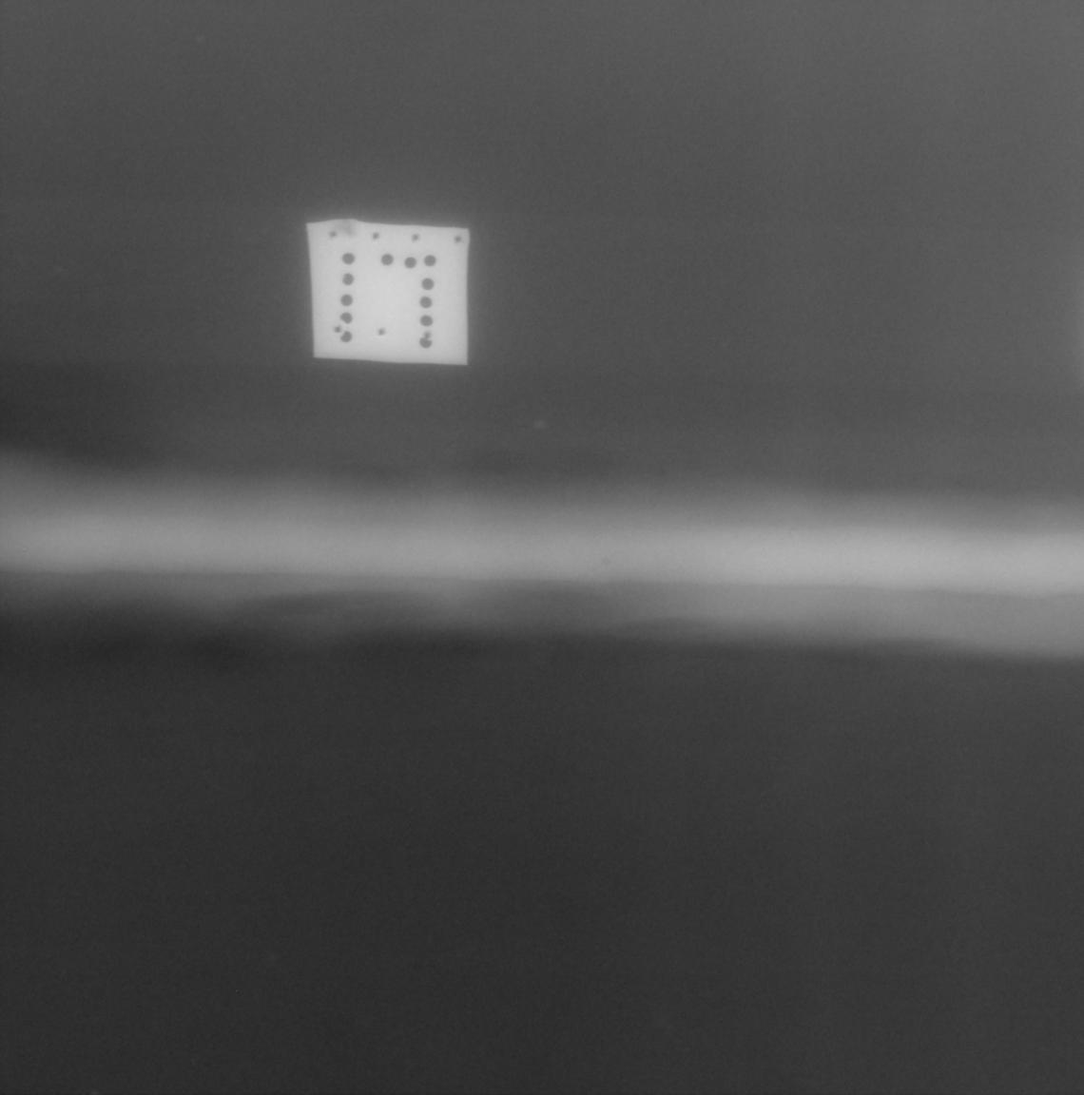Pore/Porosity: (601, 559, 609, 565)
